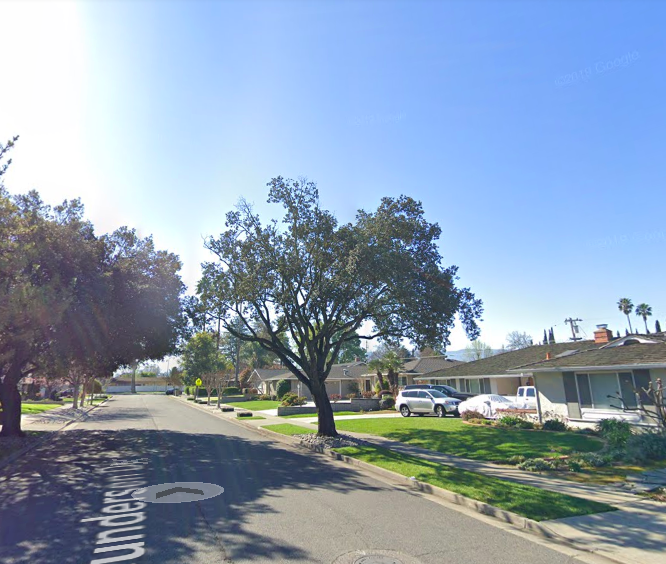tree: (194, 175, 486, 435)
